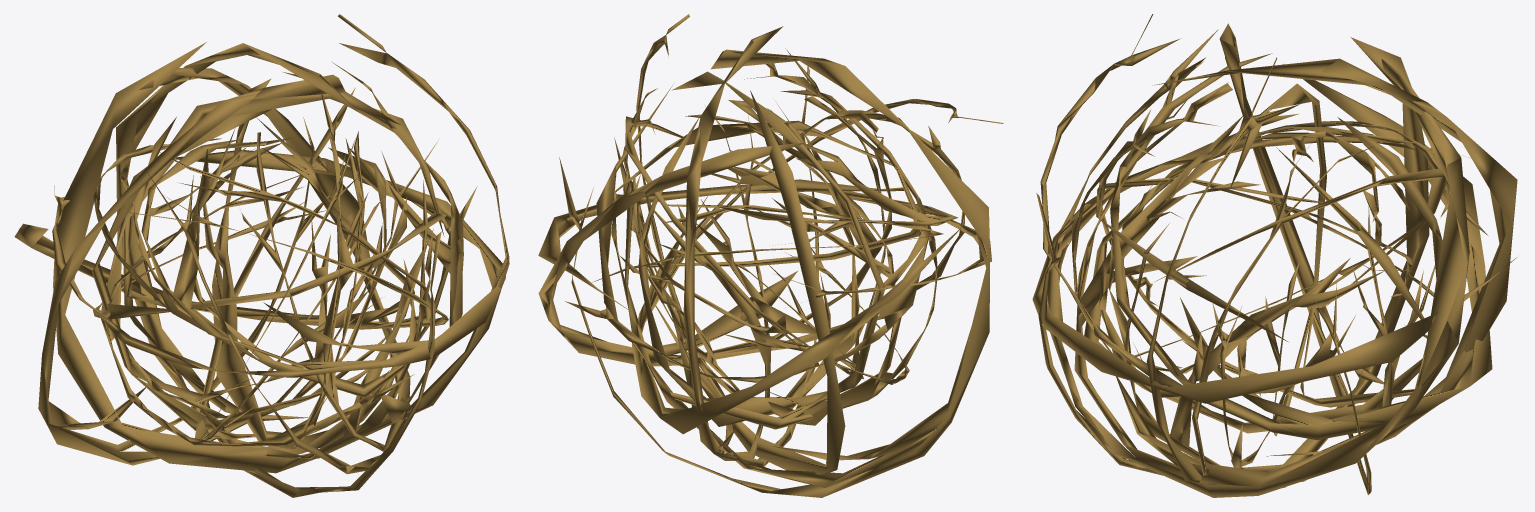
File: Tumbleweed.fbx
3 views of the same model, side by side, from view 1: azimuth 30°, elevation 25°; view 2: azimuth 150°, elevation 25°; view 3: azimuth 270°, elevation 25° (orthographic). The views are drawn at different scales.
Visible parts, largest first — view 1: tumbleweed_Baked; view 2: tumbleweed_Baked; view 3: tumbleweed_Baked.
Boxes of the visible parts, x1,y1,x2,y2 form: tumbleweed_Baked: (14, 14, 509, 497); tumbleweed_Baked: (538, 14, 1003, 497); tumbleweed_Baked: (1032, 14, 1517, 497).
Size of the model in its own units: 41.63 by 40.37 by 37.71.
